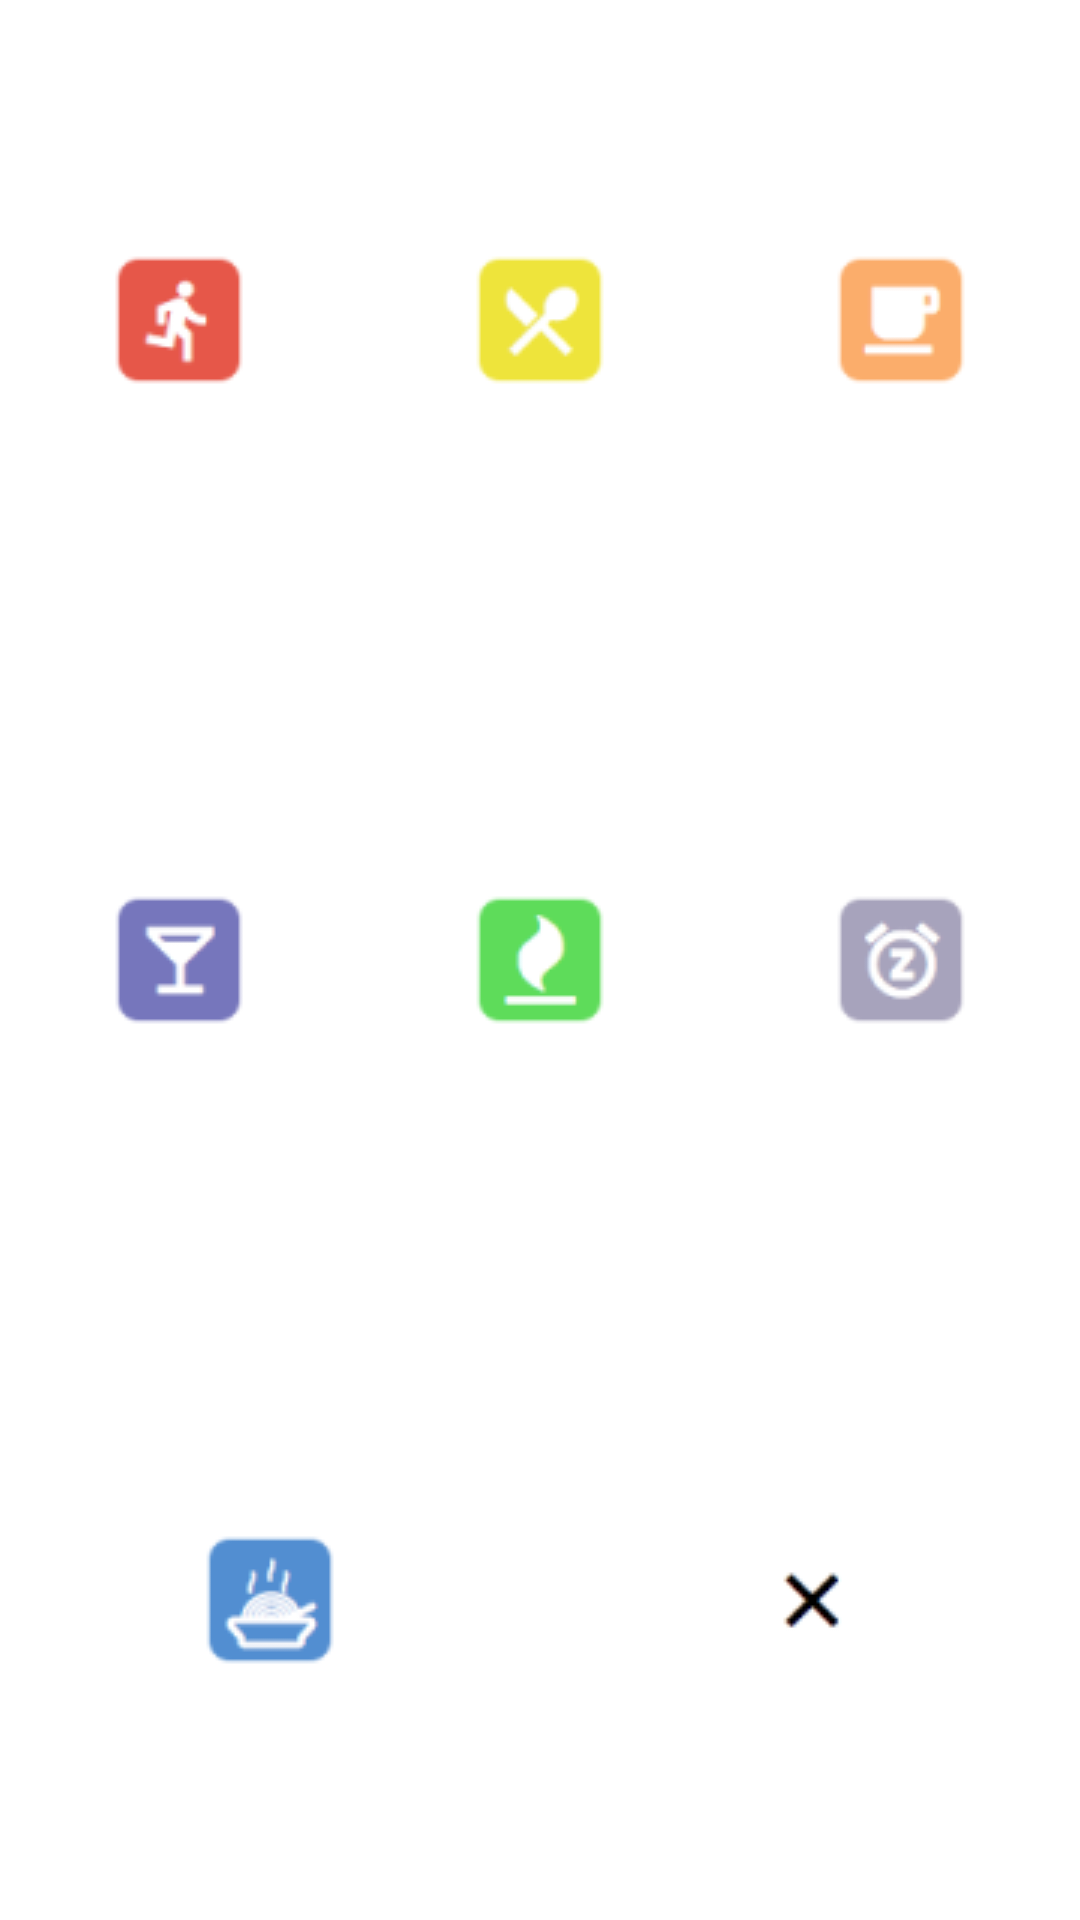

Icons on this 1080 × 1920 Android screen, each with the point to tap as (x,y):
alcohol: (179,960)
cafe: (901,320)
eat: (540,320)
exercise: (179,320)
nap: (901,960)
